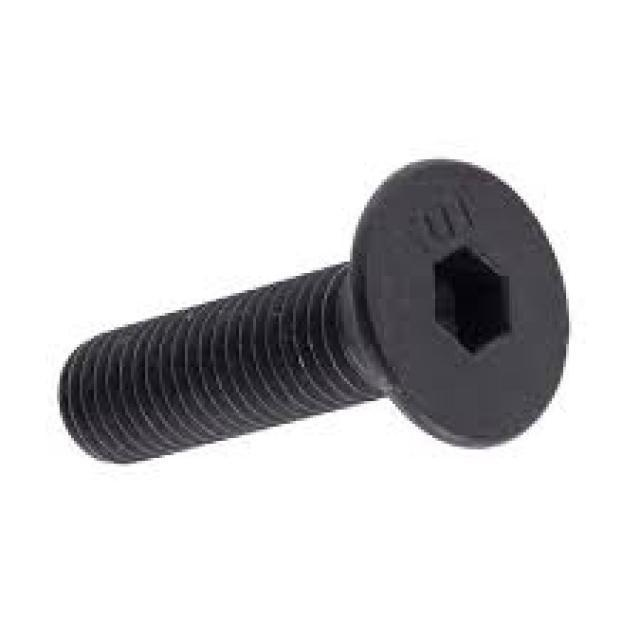torx: (350, 159, 571, 453)
